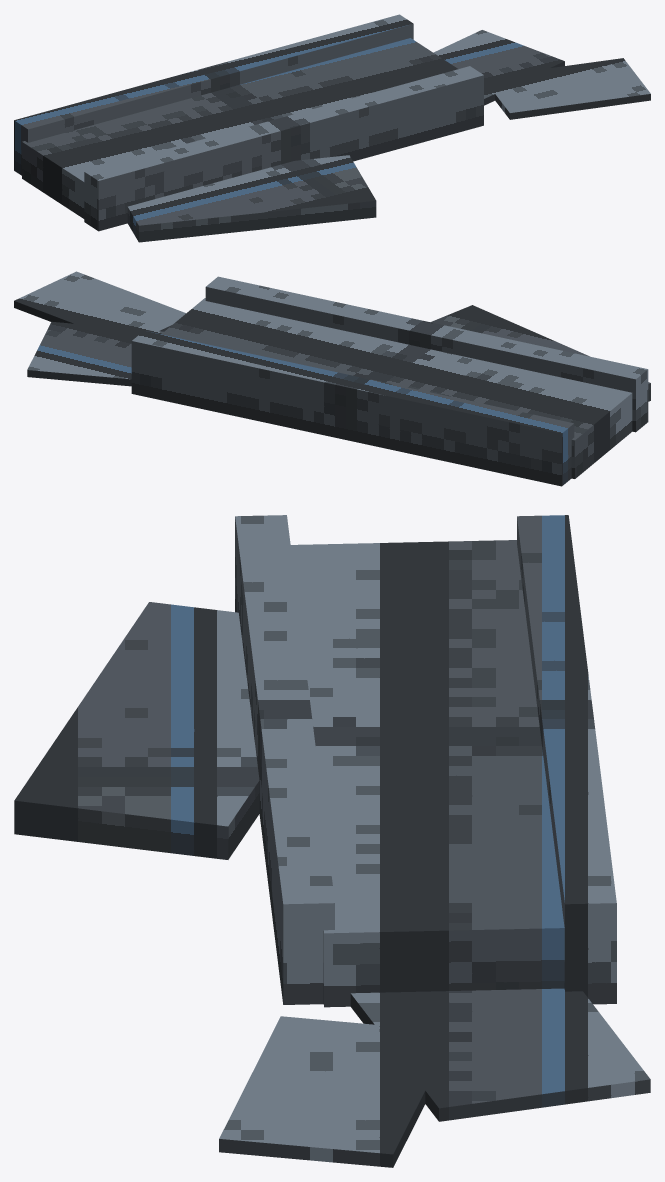
File: tp_dm_spill_trough.glb
The picture shows the model from 3 angles, top to bottom: view 1: azimuth 30°, elevation 25°; view 2: azimuth 150°, elevation 25°; view 3: azimuth 270°, elevation 25°; orthographic projection. The views are drawn at different scales.
Visible parts, largest first — view 1: dm_sp_lip_a, dm_sp_trough, dm_sp_grating, dm_sp_lip_b, dm_sp_stain_b, dm_sp_stain_a; view 2: dm_sp_lip_b, dm_sp_trough, dm_sp_lip_a, dm_sp_stain_b, dm_sp_stain_a, dm_sp_grating; view 3: dm_sp_trough, dm_sp_grating, dm_sp_lip_a, dm_sp_stain_a, dm_sp_lip_b, dm_sp_stain_b.
Part boxes in pixels (x1,y1,x2,y2): dm_sp_lip_a: (84, 66, 483, 231); dm_sp_trough: (22, 38, 458, 218); dm_sp_grating: (127, 155, 376, 242); dm_sp_lip_b: (14, 14, 413, 175); dm_sp_stain_b: (484, 58, 650, 119); dm_sp_stain_a: (433, 30, 564, 105); dm_sp_lip_b: (131, 330, 574, 486); dm_sp_trough: (161, 298, 632, 478); dm_sp_lip_a: (205, 276, 648, 432); dm_sp_stain_b: (14, 271, 185, 343); dm_sp_stain_a: (27, 321, 163, 386); dm_sp_grating: (430, 305, 650, 401); dm_sp_trough: (290, 540, 564, 1007); dm_sp_grating: (14, 602, 259, 859); dm_sp_lip_a: (235, 515, 334, 1004); dm_sp_stain_a: (350, 988, 650, 1121); dm_sp_lip_b: (517, 515, 616, 1004); dm_sp_stain_b: (219, 1016, 450, 1167).
Size of the model in its own units: 1.77 by 0.15 by 0.8582.
2 materials, 2 textured.
